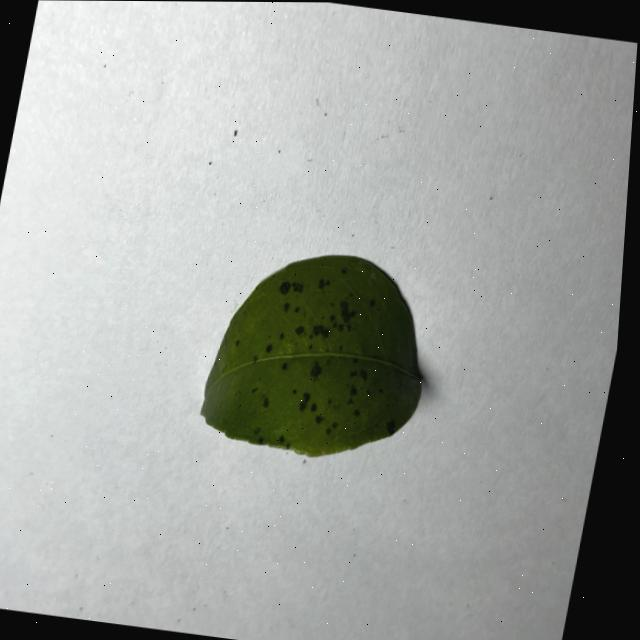sooty_mold: (200, 255, 420, 454)
